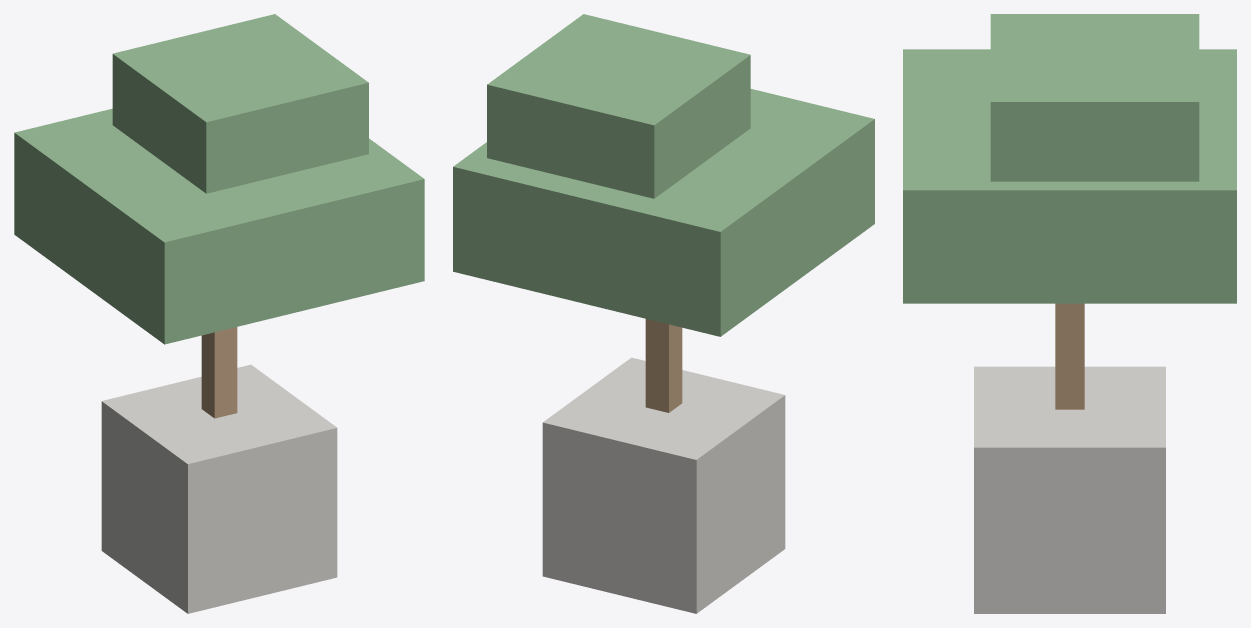
File: planter.glb
3 views of the same model, side by side, from view 1: azimuth 30°, elevation 25°; view 2: azimuth 150°, elevation 25°; view 3: azimuth 270°, elevation 25° (orthographic). The views are drawn at different scales.
Visible parts, largest first — view 1: planter_Leaves_A, planter_Pot, planter_Leaves_B, planter_Stem; view 2: planter_Leaves_A, planter_Pot, planter_Leaves_B, planter_Stem; view 3: planter_Leaves_A, planter_Pot, planter_Leaves_B, planter_Stem.
Boxes of the visible parts, x1,y1,x2,y2 form: planter_Leaves_A: [14, 108, 424, 344]; planter_Pot: [101, 364, 337, 613]; planter_Leaves_B: [112, 14, 368, 193]; planter_Stem: [201, 327, 237, 418]; planter_Leaves_A: [453, 89, 874, 336]; planter_Pot: [542, 357, 785, 613]; planter_Leaves_B: [487, 14, 750, 198]; planter_Stem: [645, 319, 682, 412]; planter_Leaves_A: [903, 49, 1236, 303]; planter_Pot: [974, 366, 1165, 613]; planter_Leaves_B: [990, 14, 1199, 181]; planter_Stem: [1055, 303, 1084, 409].
Size of the model in its own units: 0.8 by 1.41 by 0.8.
